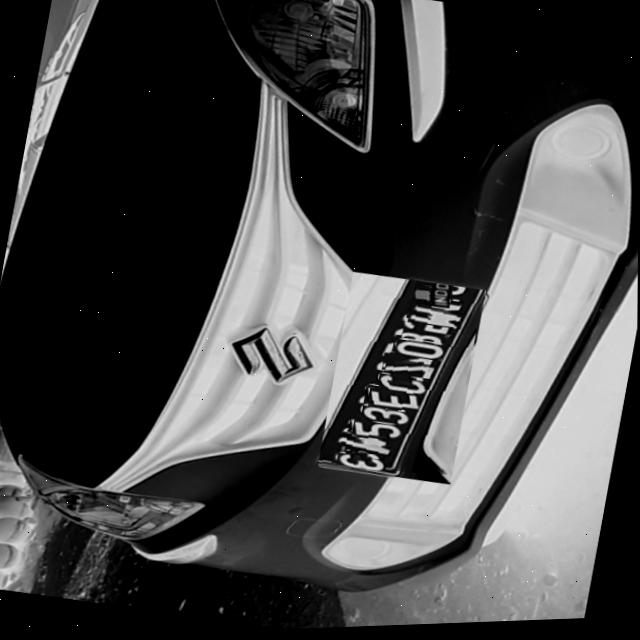0: (395, 339, 445, 365)
3: (360, 405, 411, 429), (337, 452, 388, 475)
5: (352, 420, 404, 446), (345, 436, 393, 460)
7: (384, 356, 436, 383)
C: (378, 373, 429, 398)
E: (368, 388, 422, 417)
IND: (413, 286, 454, 312)
Indian_registered: (319, 282, 485, 474)
M: (407, 302, 465, 333)
P: (402, 321, 454, 348)
